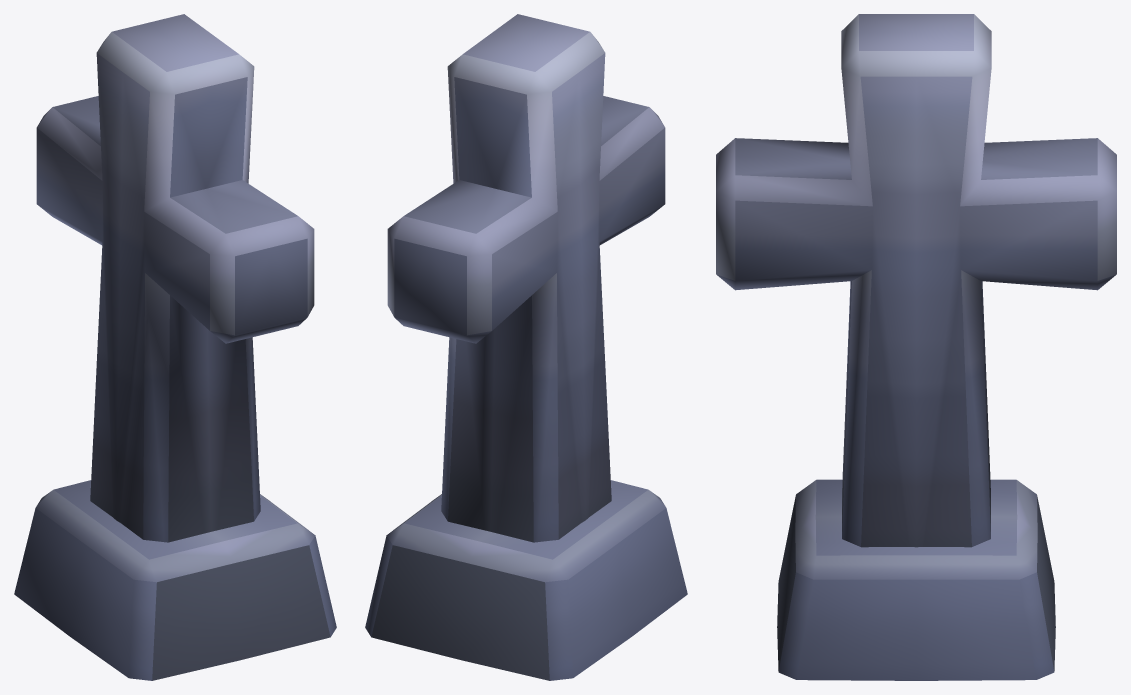
Rendered from stone-statue.obj.
The picture shows the model from 3 angles, left to right: view 1: azimuth 30°, elevation 25°; view 2: azimuth 150°, elevation 25°; view 3: azimuth 270°, elevation 25°; orthographic projection. The views are drawn at different scales.
Parts seen in each view (by area): view 1: stone-statue; view 2: stone-statue; view 3: stone-statue.
Boxes of the visible parts, left/top/right/bottom form: stone-statue: left=14, top=14, right=336, bottom=680; stone-statue: left=365, top=14, right=687, bottom=680; stone-statue: left=716, top=14, right=1116, bottom=680.
Size of the model in its own units: 1.24 by 3.2 by 1.95.
Materials: 1 (1 with a texture image).
